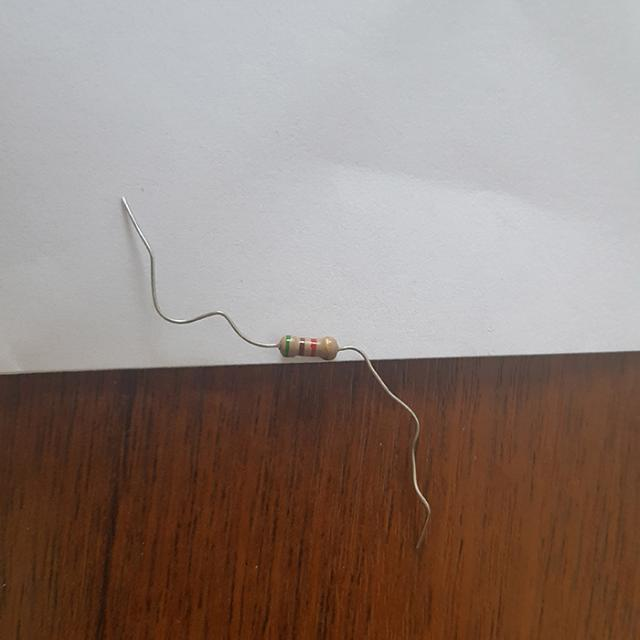brown: (300, 338, 305, 354)
gold: (325, 338, 329, 360)
green: (286, 336, 290, 356)
red: (311, 339, 316, 355)
resistor: (273, 332, 340, 367)
